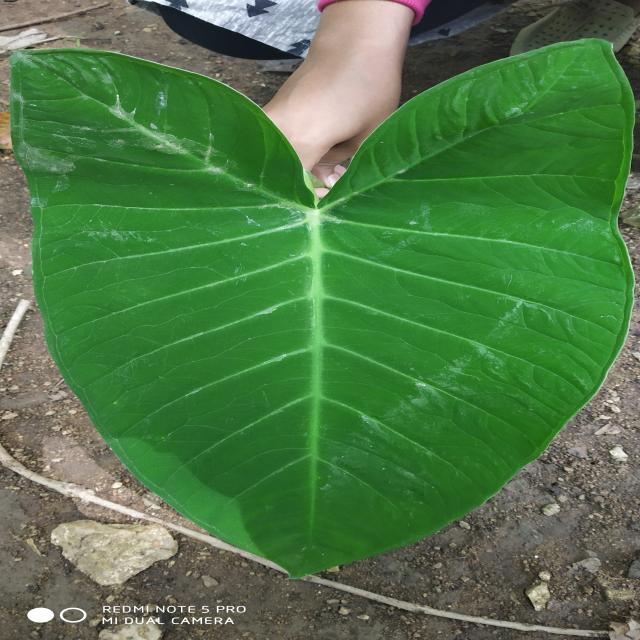taro: (11, 40, 633, 578)
